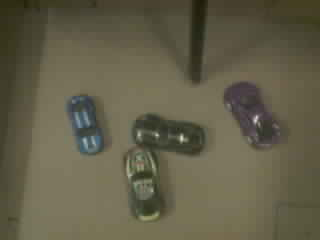Car: (224, 82, 278, 147), (133, 113, 204, 153), (125, 147, 161, 220), (67, 95, 102, 153)
